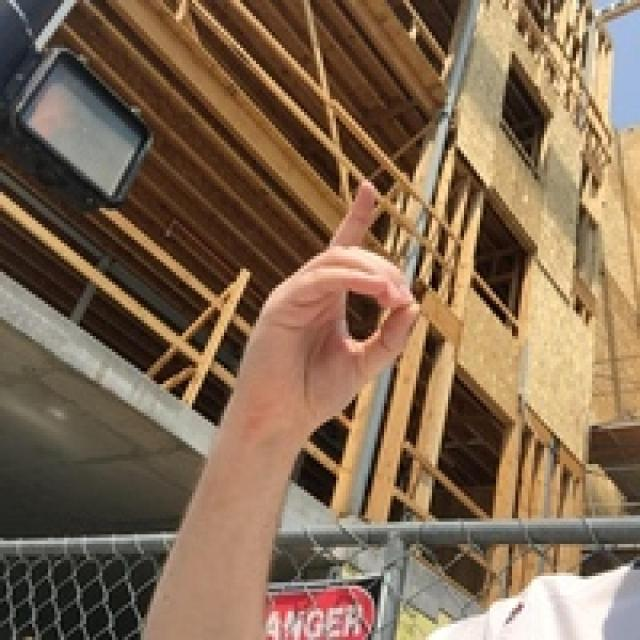D: (172, 155, 475, 459)
